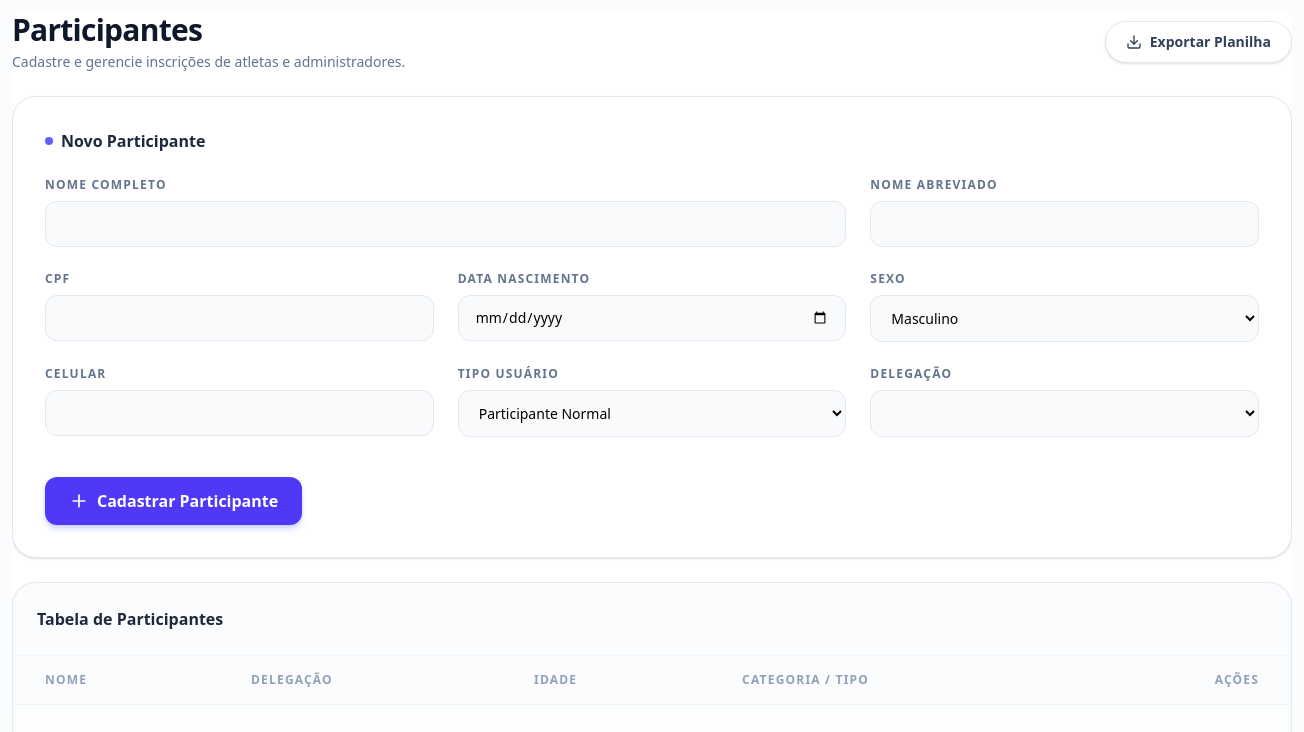
Scenario: Participantes Component › validates and rejects registering a participant younger than 10 years
Type "Neymar Jr" into the field below "Nome Completo" at (446, 224), box [45,201,846,247]
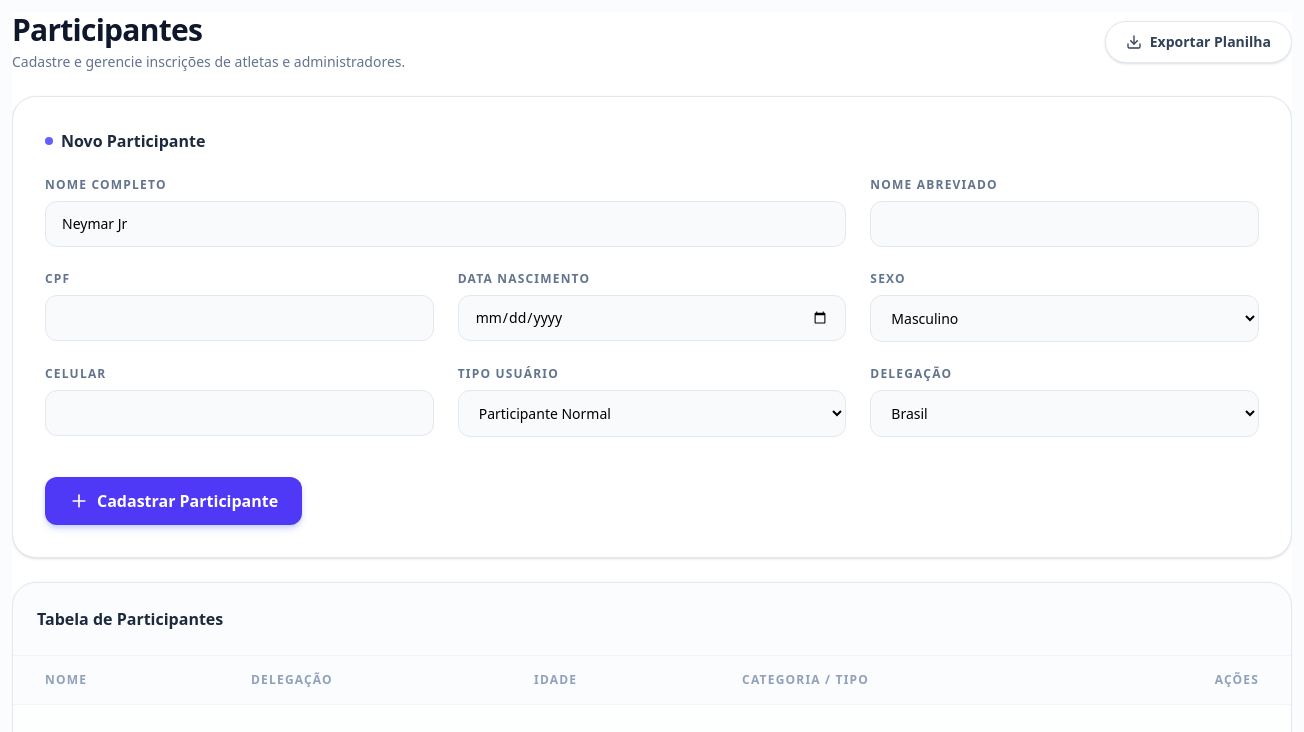
Type "Neymar" into the field below "Nome Abreviado" at (1065, 224), box [870,201,1259,247]
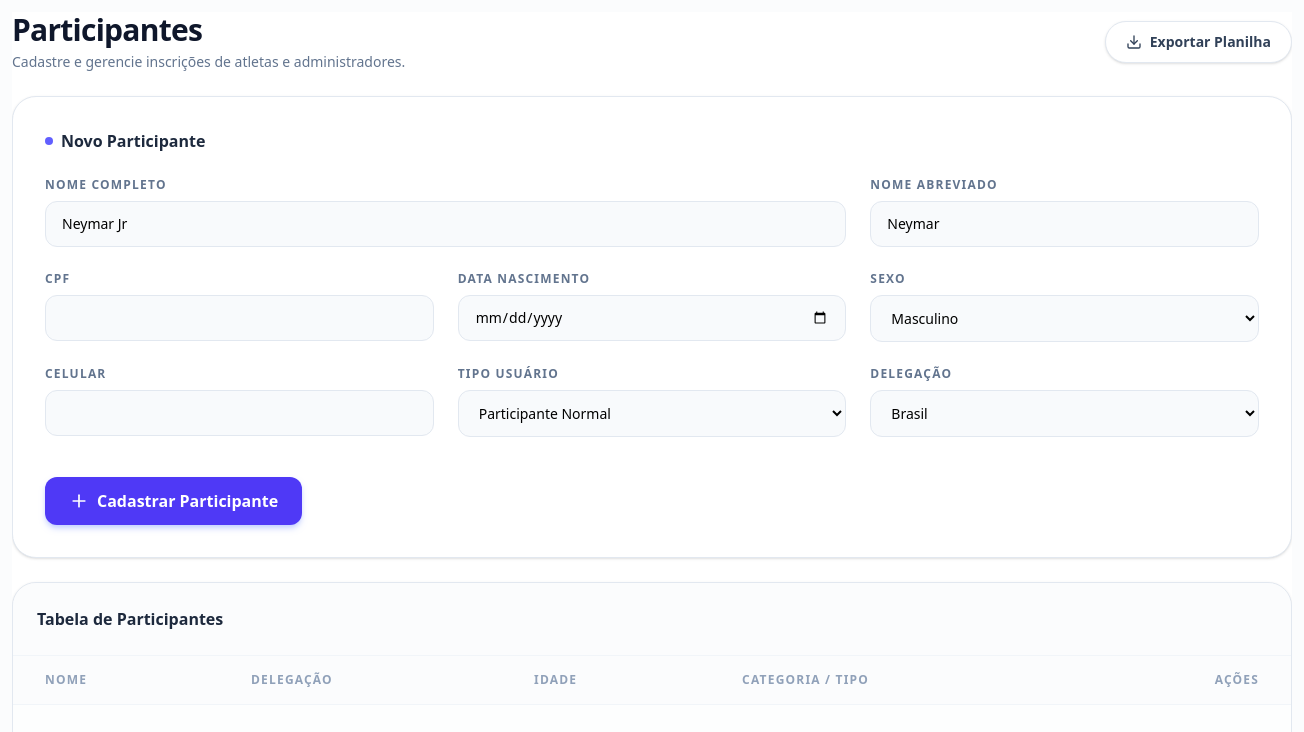
Type "11111111111" into the field below "CPF" at (239, 318), box [45,295,434,341]
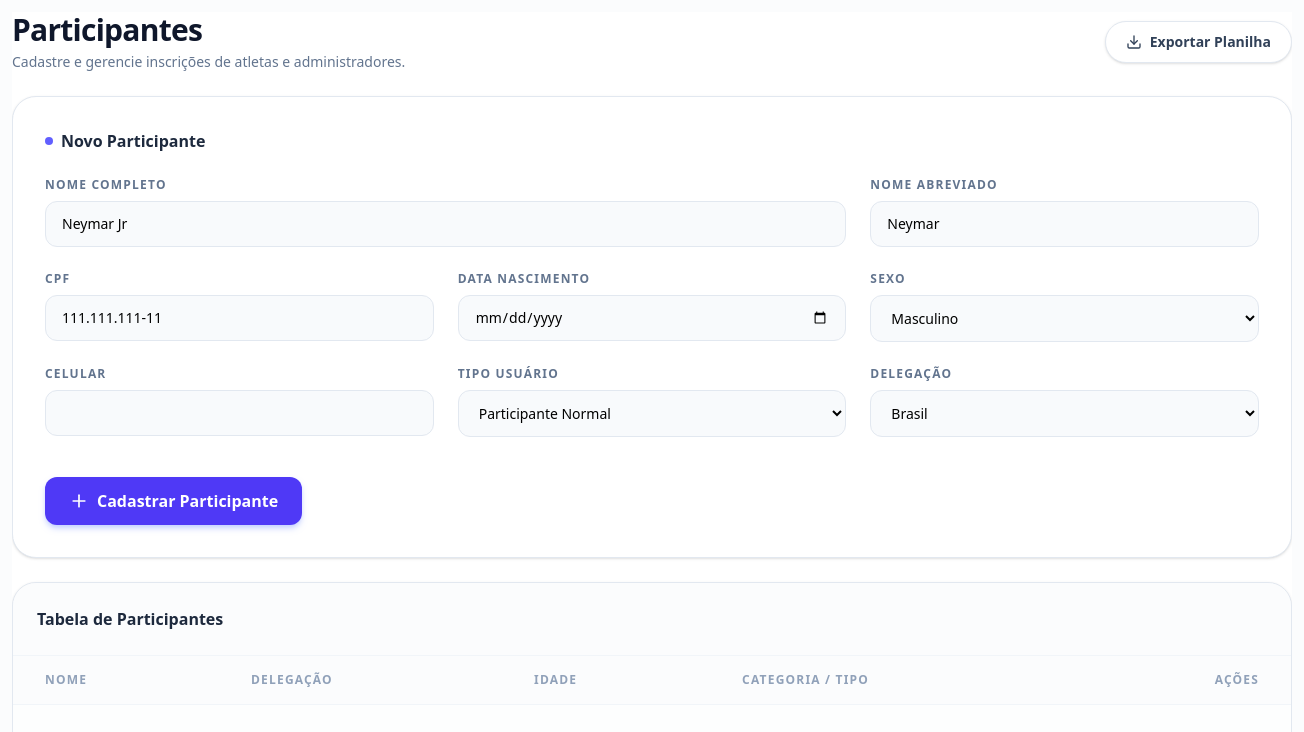
Type "2020-01-01" into the date field at (652, 318), box [458,295,846,341]
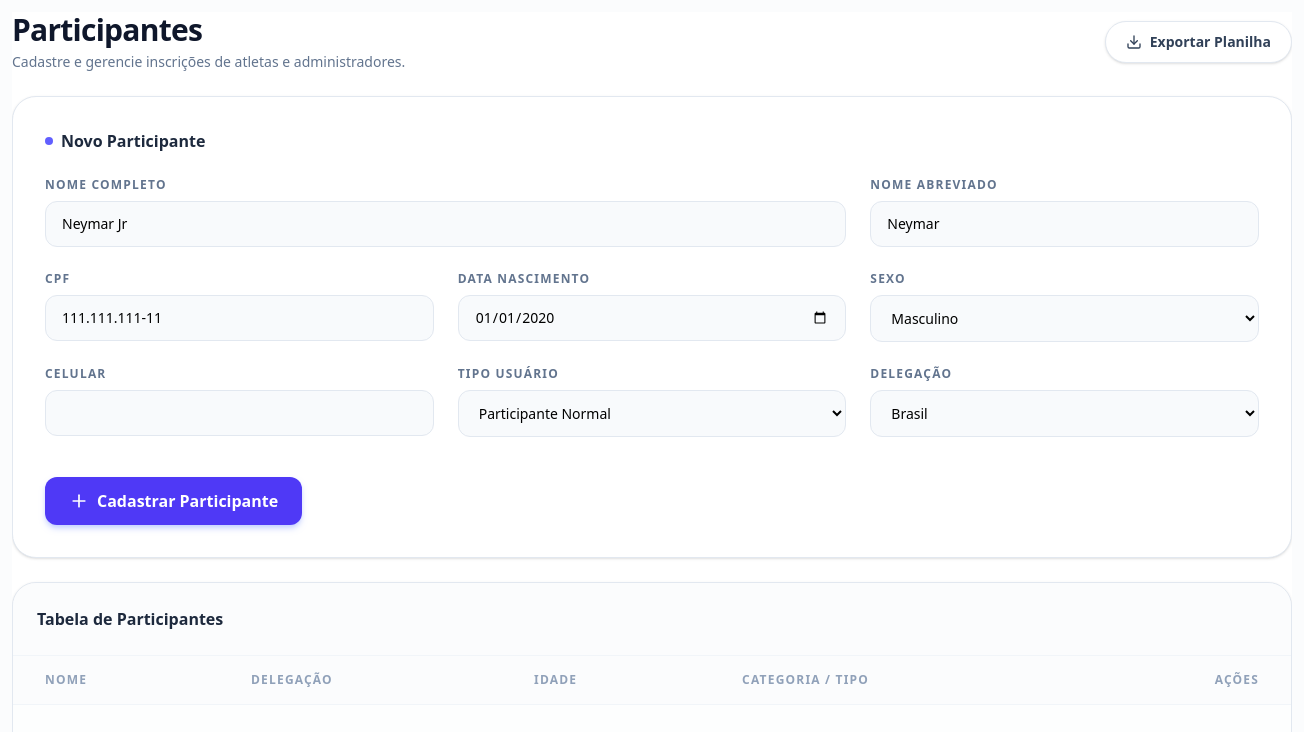
Type "11999999999" into the field below "Celular" at (239, 413), box [45,390,434,436]
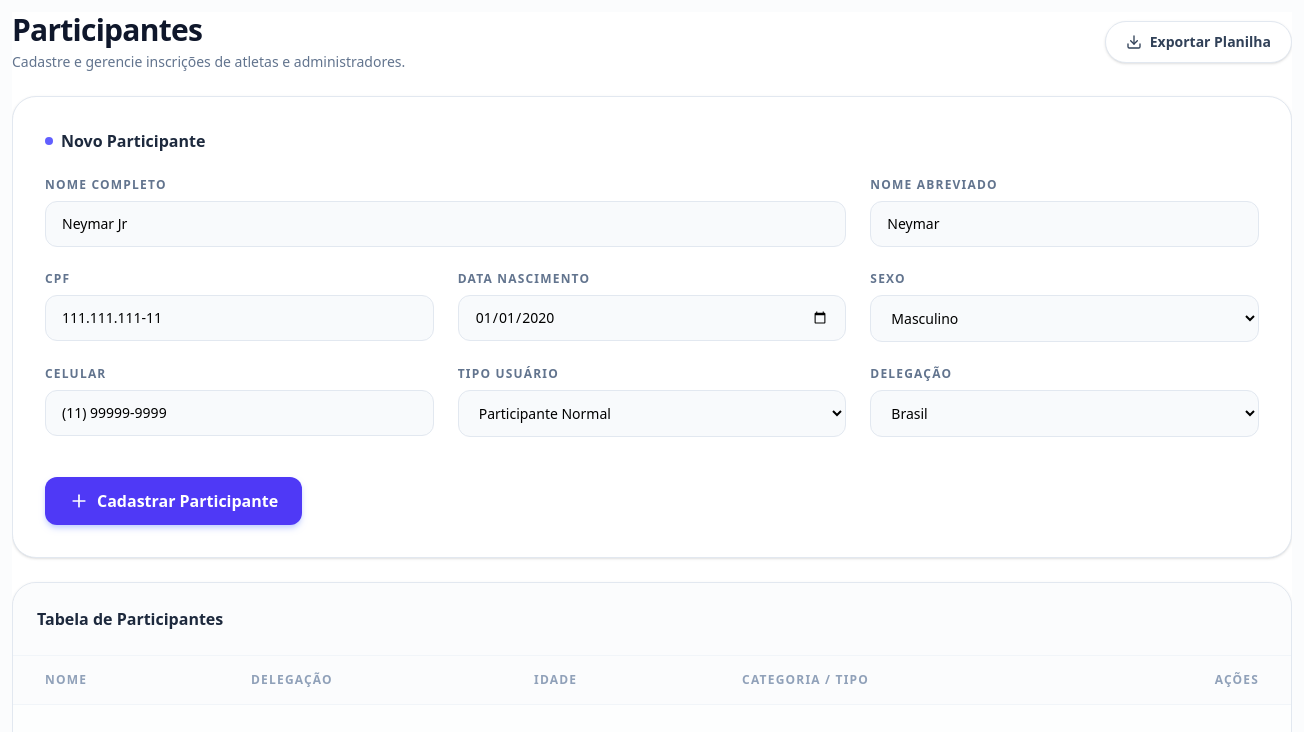
Click the button "Cadastrar Participante" at (174, 501), box [45,477,302,525]
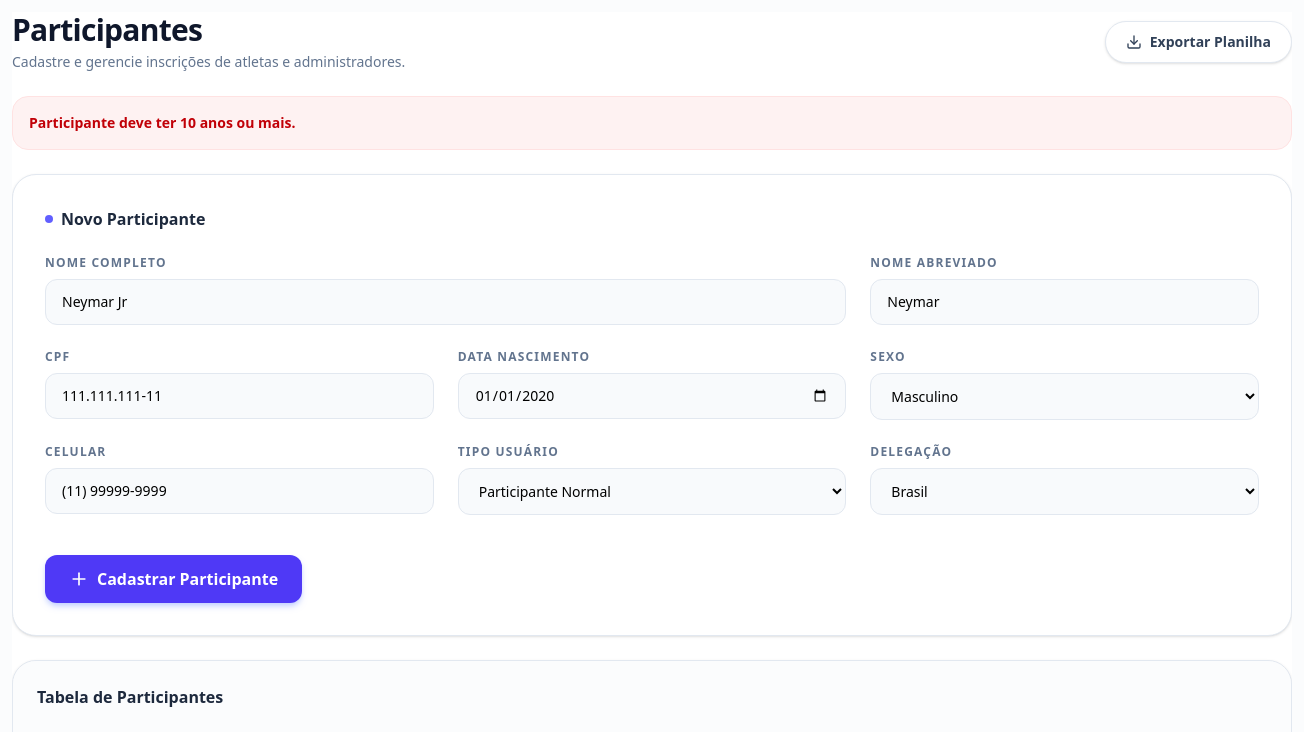
Now the text "Participante deve ter 10 anos ou mais." is shown, box [12,96,1292,150]
